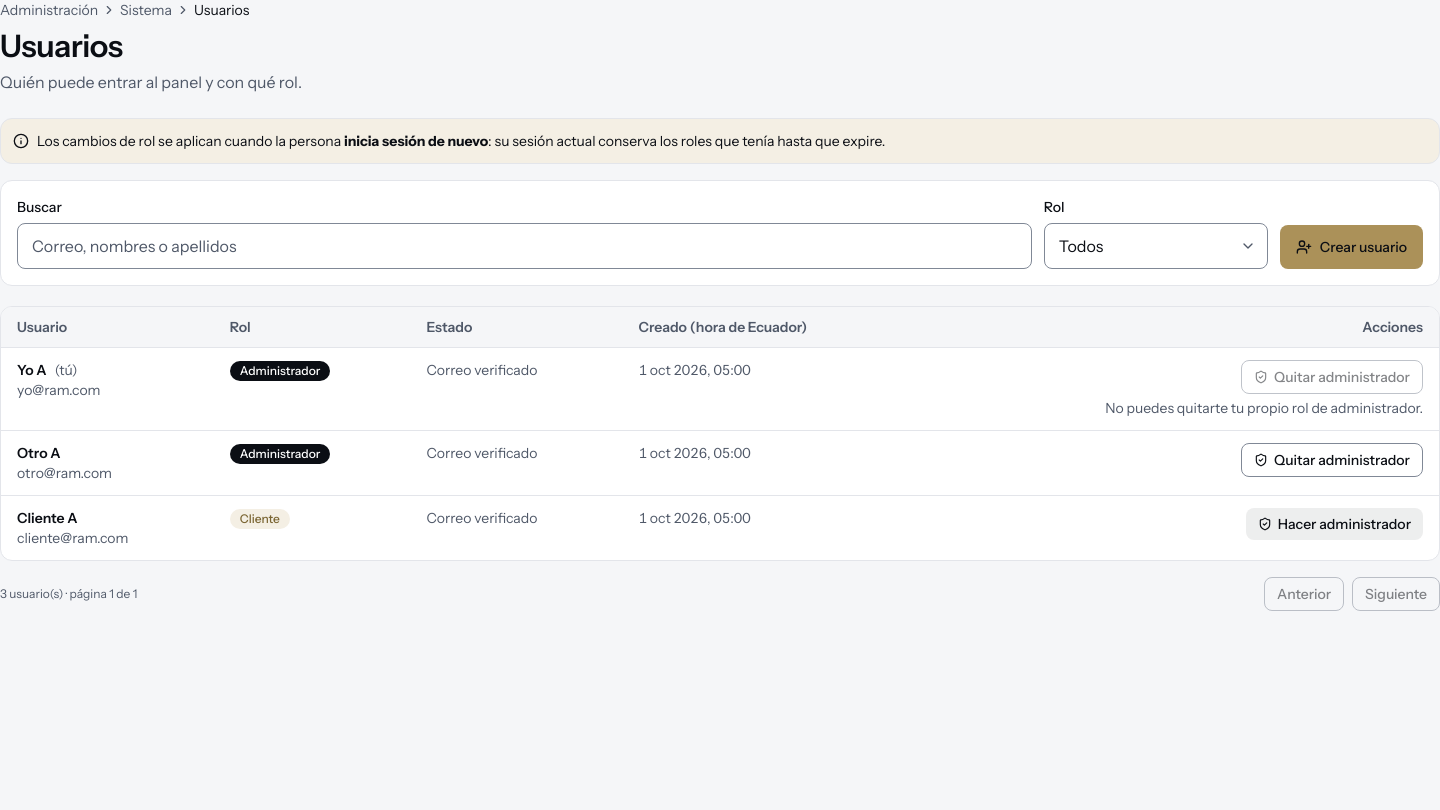
Scenario: AdminUsersPage › shows the LAST_ADMIN problem inside the confirmation dialog and closes with Escape
Expected: the text "otro@ram.com" is shown, [17,464,112,482]
Click the button "Quitar administrador" in the row of "otro@ram.com".
click(1332, 460)  # box [1241,443,1423,477]
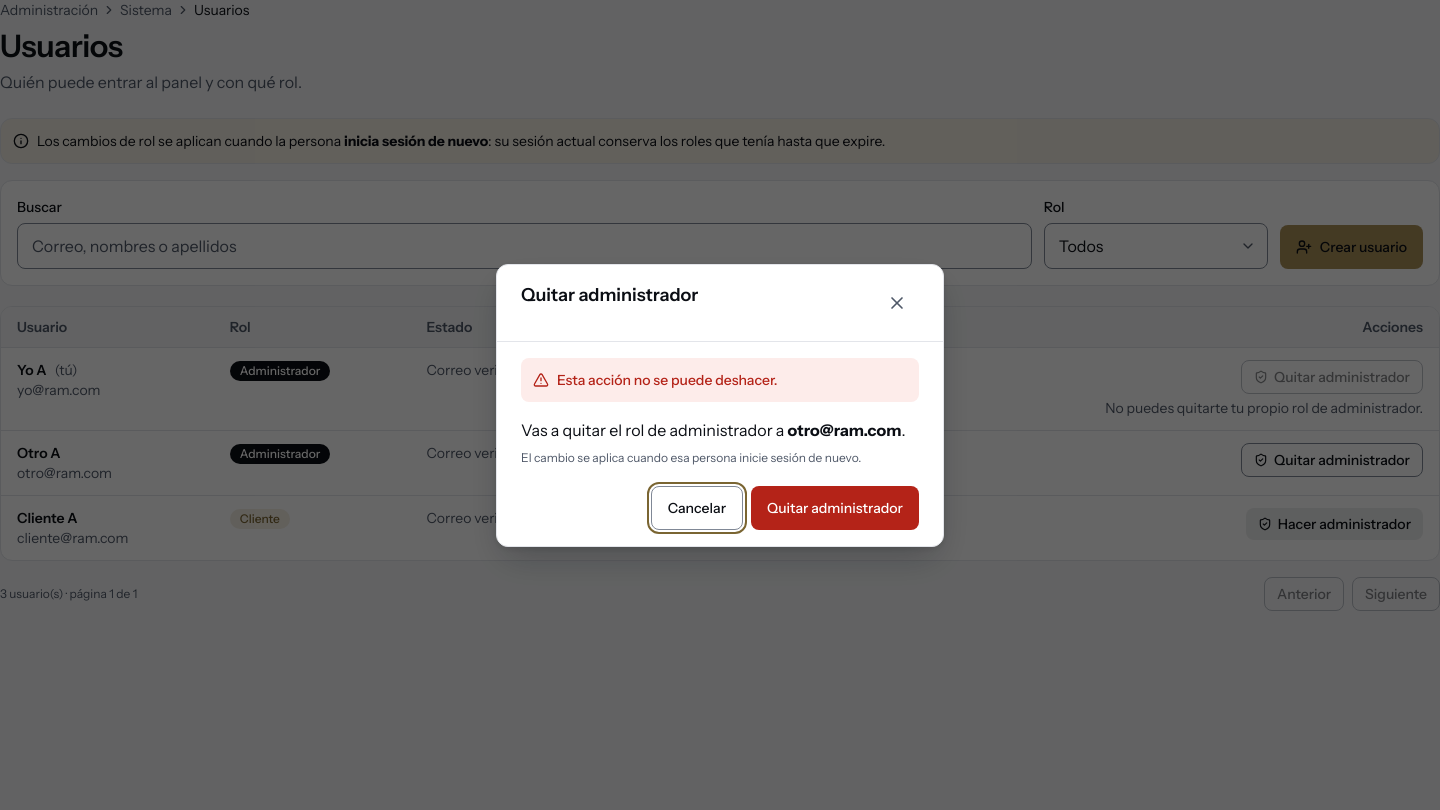
Click the button "Quitar administrador".
click(835, 508)  # box [751,486,919,530]
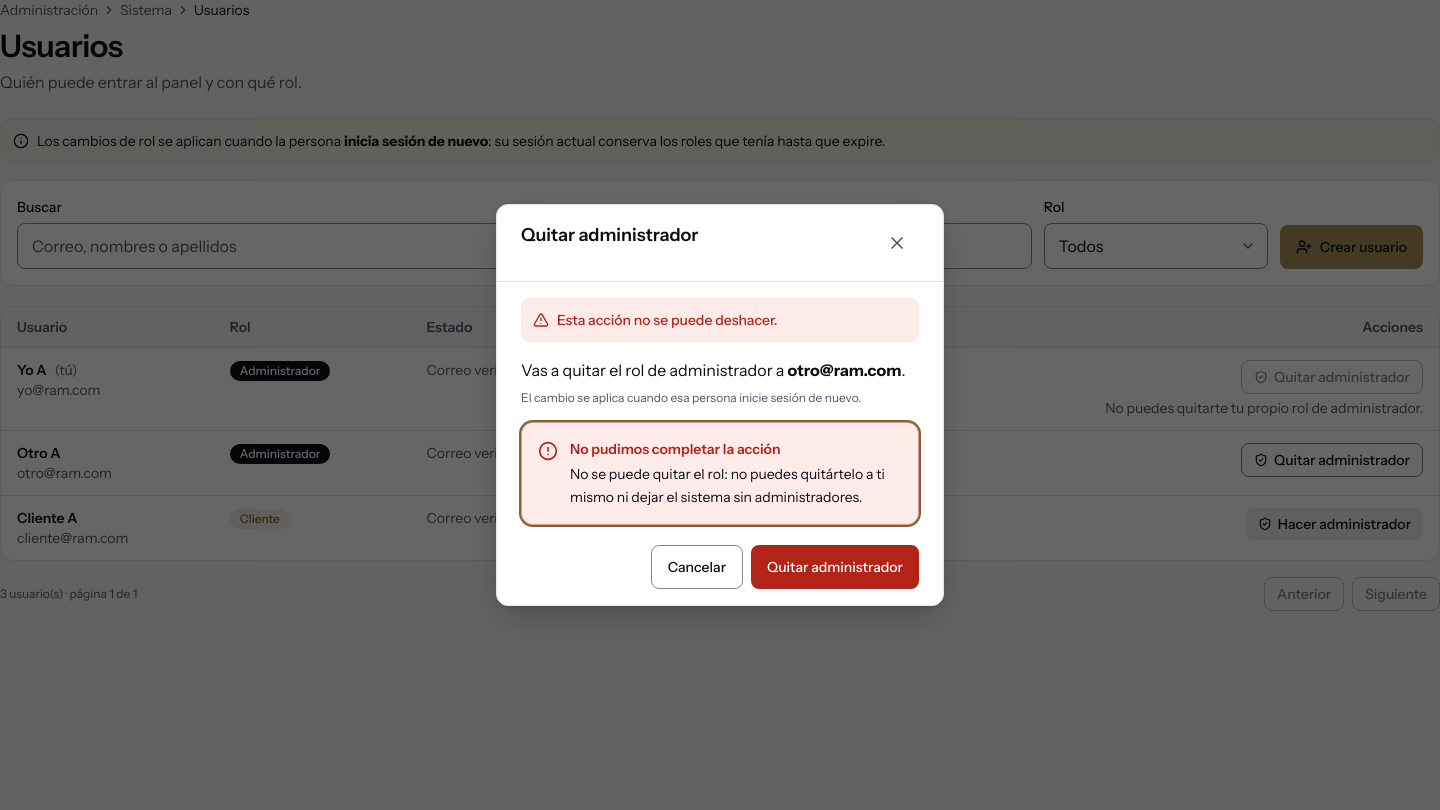
Expected: the text "dejar el sistema sin administradores" is shown, [570,465,885,506]
Press Escape
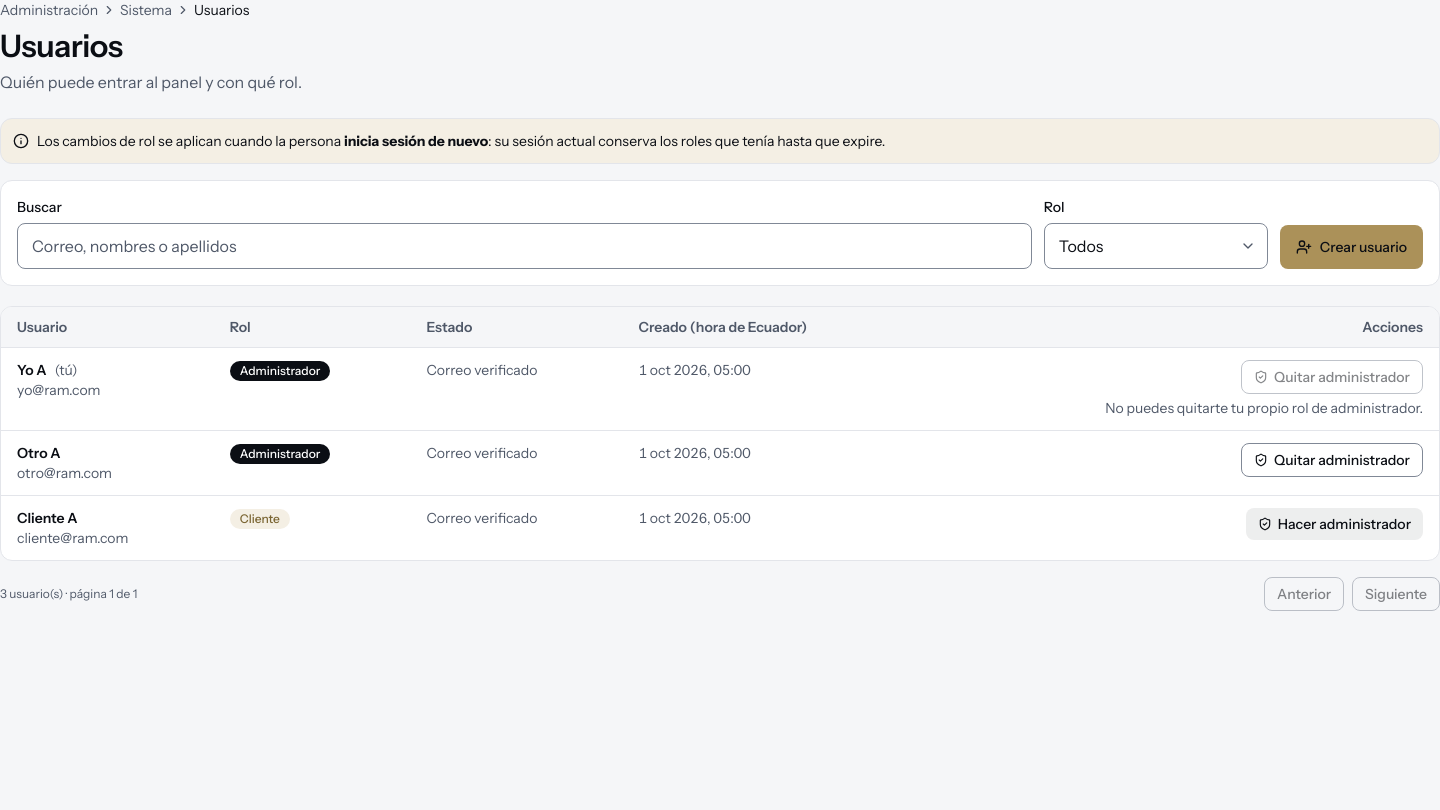
Expected: the dialog is gone
